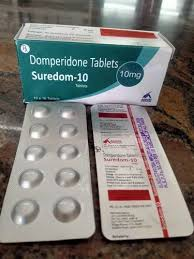Domperidone: (26, 55, 89, 68)
